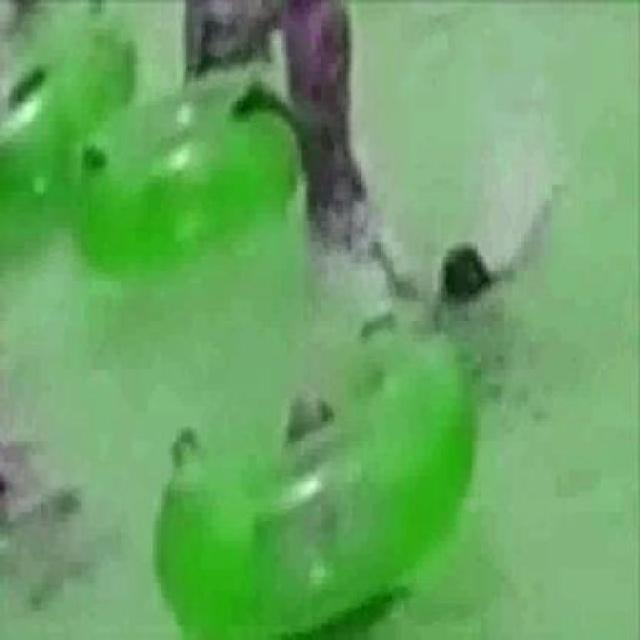drowning: (380, 179, 558, 312)
